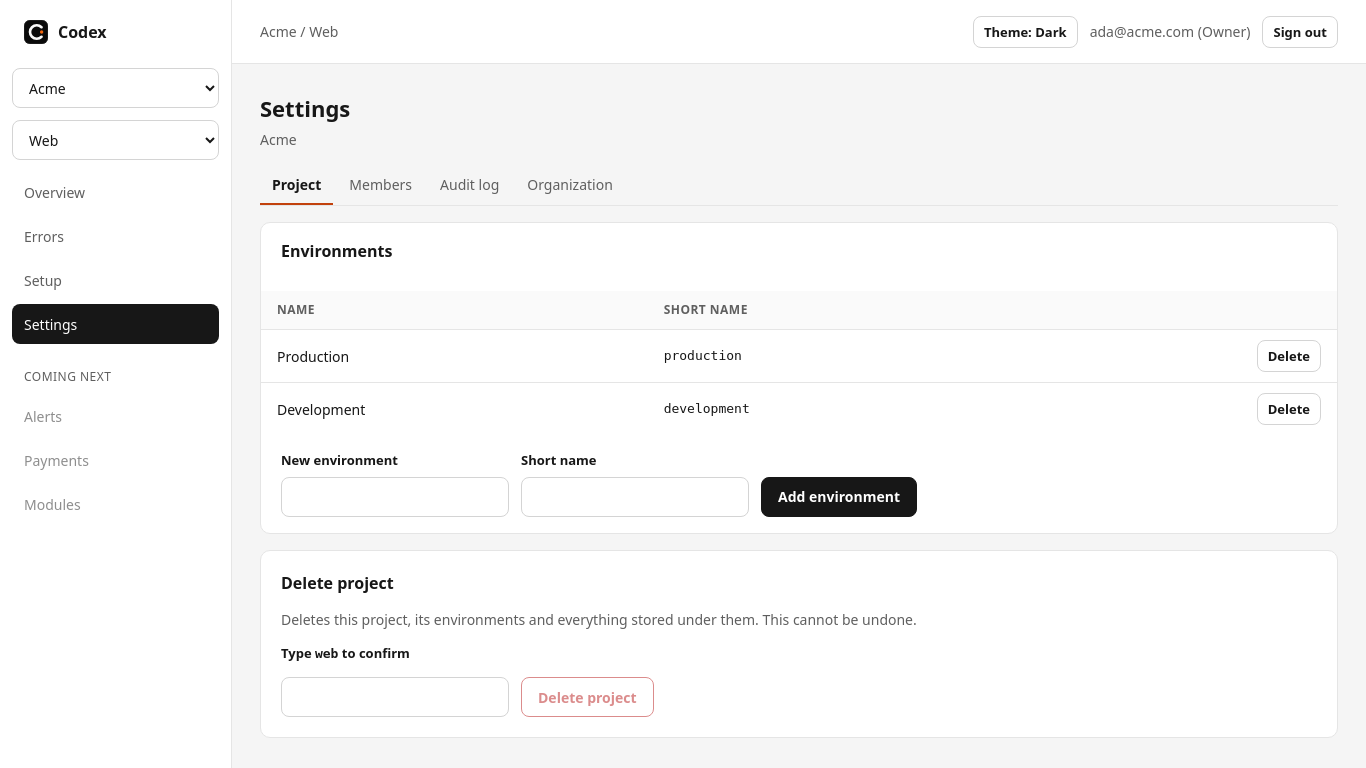
Test: signed in › an owner can add members and delete controls need the typed name
This screenshot has width=1366, height=768.
Expected: the button "Delete project" is disabled, [521, 677, 654, 717]
Type "web" into the field labelled "Type web to confirm".
click(395, 697); type("web")  # box [281, 677, 509, 717]
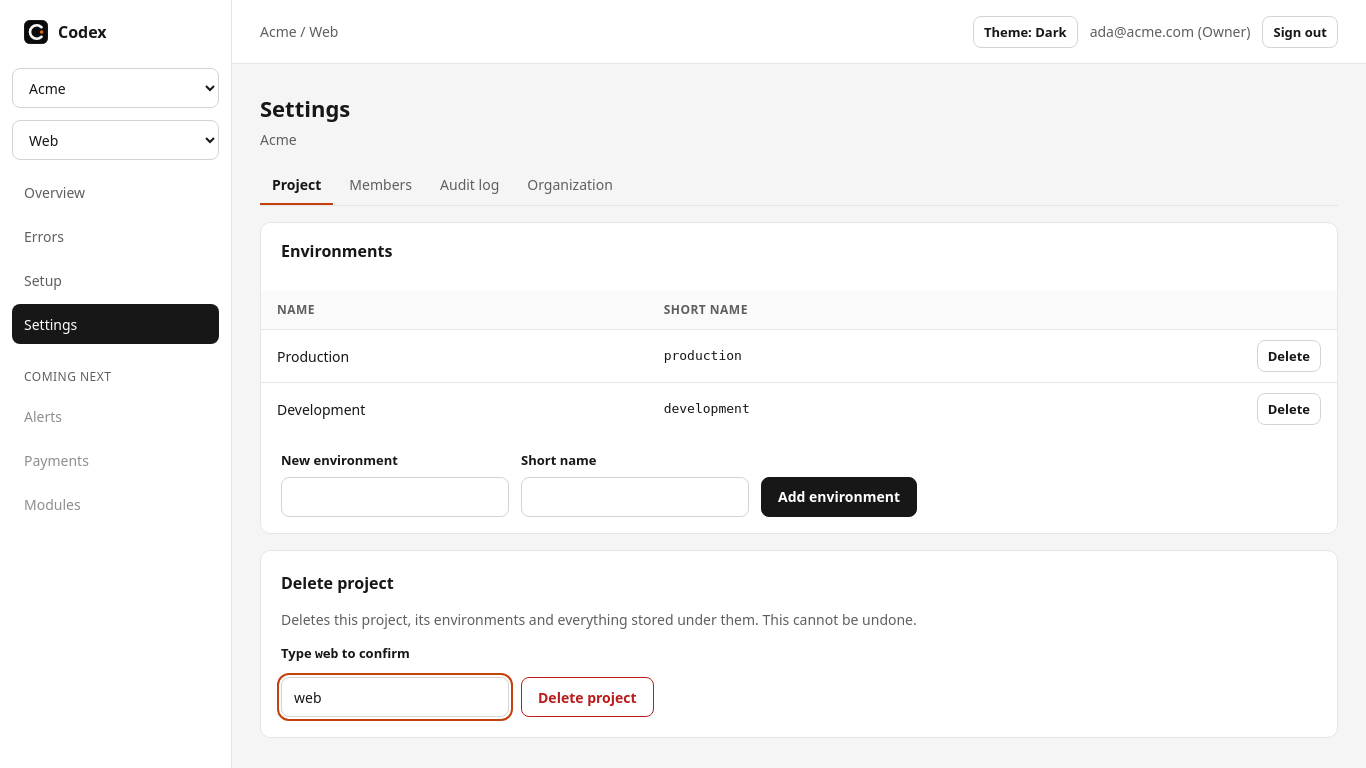
Result: the button "Delete project" is enabled at [521, 677, 654, 717]
